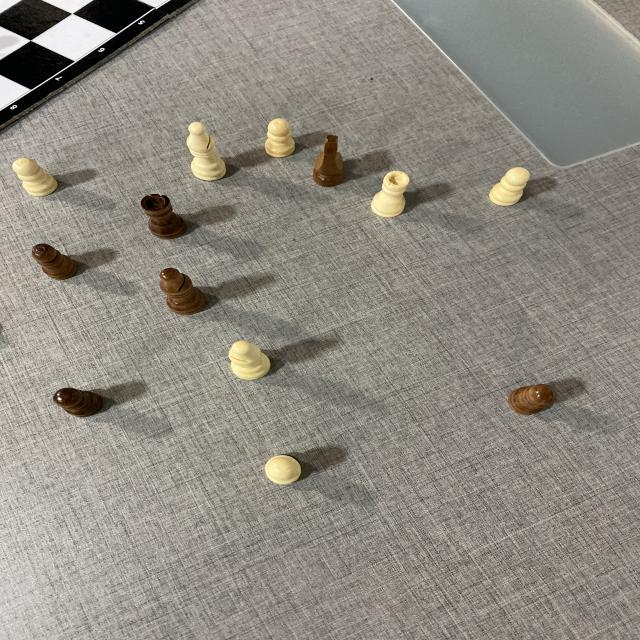Black-Bishop: (157, 267, 209, 315)
Black-Knight: (314, 134, 347, 187)
Black-Pawn: (29, 243, 82, 282), (510, 382, 559, 416), (54, 388, 106, 418)
Black-Rook: (138, 193, 188, 238)
White-Bishop: (183, 121, 228, 182), (227, 340, 273, 380)
White-Pawn: (11, 157, 60, 198), (488, 166, 533, 207), (265, 116, 298, 158), (263, 455, 303, 485)
White-Rook: (371, 170, 411, 217)
